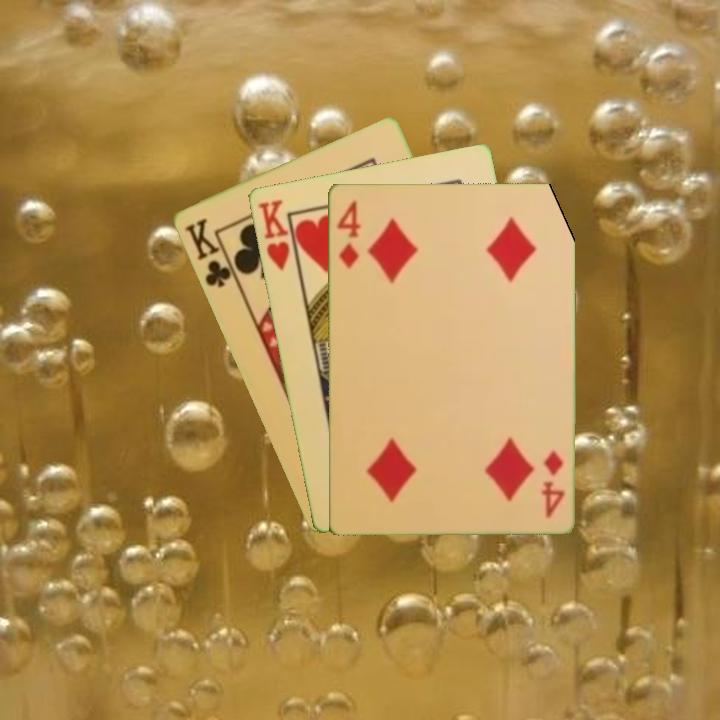4d: (333, 196, 363, 271), (537, 447, 567, 521)
Kc: (180, 214, 240, 291)
Kh: (254, 195, 301, 275)
